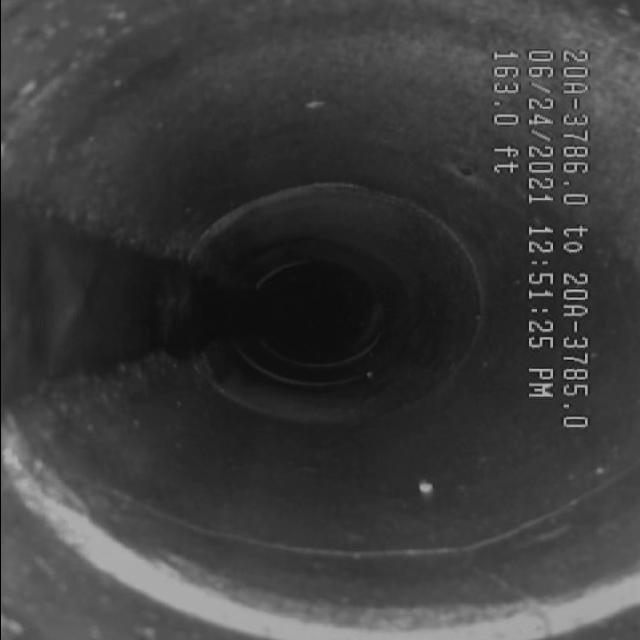Crack: (170, 488, 580, 612)
